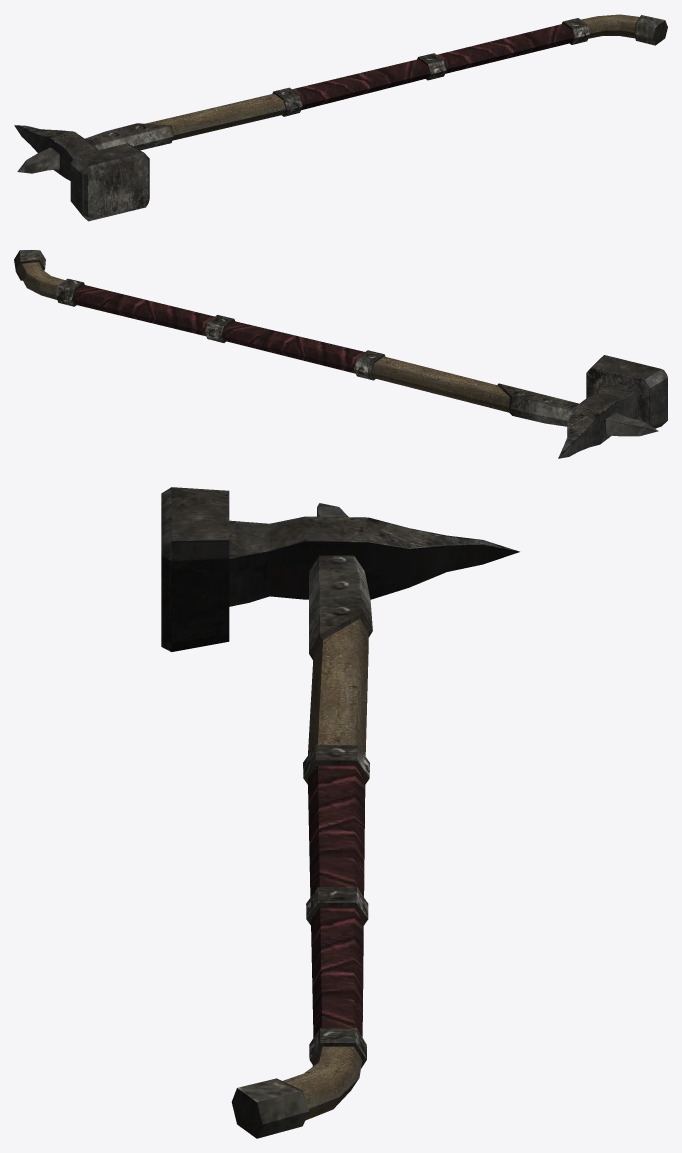
The model's file is KM_ITMW_1H_HAMMER_03.glb.
3 views of the same model, one above another, from view 1: azimuth 30°, elevation 25°; view 2: azimuth 150°, elevation 25°; view 3: azimuth 270°, elevation 25° (orthographic). The views are drawn at different scales.
Parts seen in each view (by area): view 1: KM_ITMW_1H_HAMMER_03; view 2: KM_ITMW_1H_HAMMER_03; view 3: KM_ITMW_1H_HAMMER_03.
Boxes of the visible parts, box(x1,y1,x2,y2) form: KM_ITMW_1H_HAMMER_03: box(14, 14, 667, 221); KM_ITMW_1H_HAMMER_03: box(14, 250, 667, 458); KM_ITMW_1H_HAMMER_03: box(161, 487, 519, 1138).
Bounding box in the file's own units: 1.14 × 0.0944 × 0.2774.
Materials: 2 (2 with a texture image).
